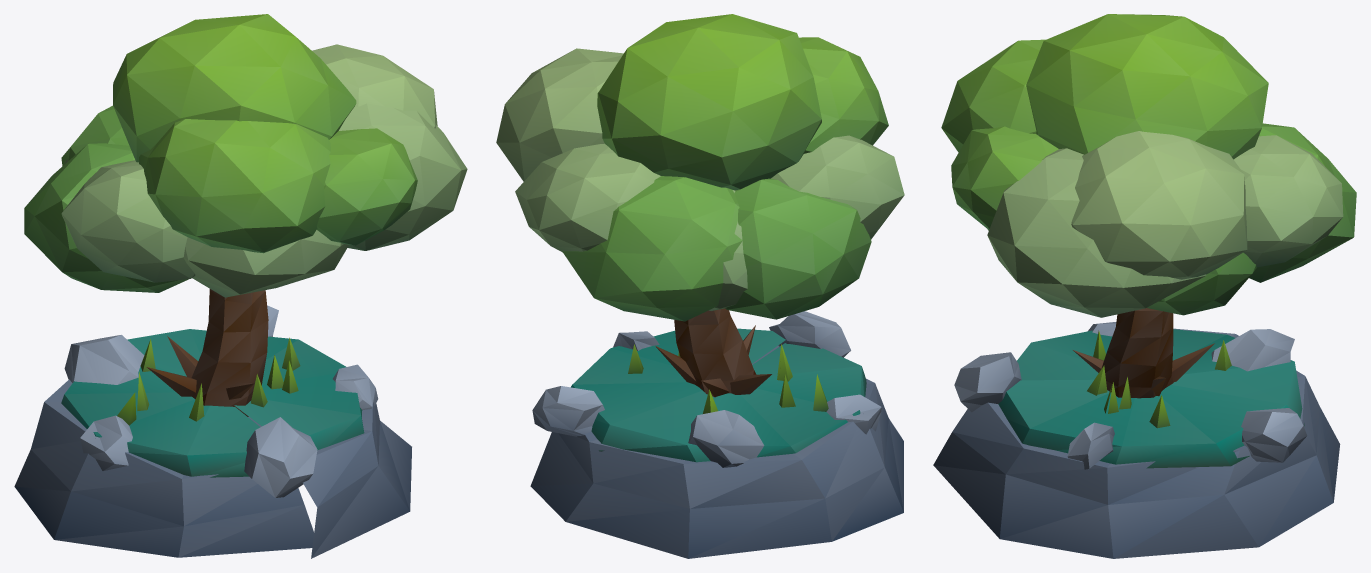
Rendered from pohon_oak_highland_988459.glb.
The picture shows the model from 3 angles, left to right: view 1: azimuth 30°, elevation 25°; view 2: azimuth 150°, elevation 25°; view 3: azimuth 270°, elevation 25°; orthographic projection. The views are drawn at different scales.
Parts seen in each view (by area): view 1: Dedaunan_Kanopi, Pulau_Batu_Tepi_Sungai, Batang_Dan_Akar; view 2: Dedaunan_Kanopi, Pulau_Batu_Tepi_Sungai, Batang_Dan_Akar; view 3: Dedaunan_Kanopi, Pulau_Batu_Tepi_Sungai, Batang_Dan_Akar.
Part boxes in pixels (x1,y1,x2,y2): Dedaunan_Kanopi: (24,14,467,297); Pulau_Batu_Tepi_Sungai: (14,305,411,558); Batang_Dan_Akar: (146,289,268,416); Dedaunan_Kanopi: (496,14,904,321); Pulau_Batu_Tepi_Sungai: (530,311,903,558); Batang_Dan_Akar: (655,308,771,397); Dedaunan_Kanopi: (941,14,1356,317); Pulau_Batu_Tepi_Sungai: (933,322,1340,558); Batang_Dan_Akar: (1073,308,1214,398).
Size of the model in its own units: 6.01 by 6.78 by 5.69.
